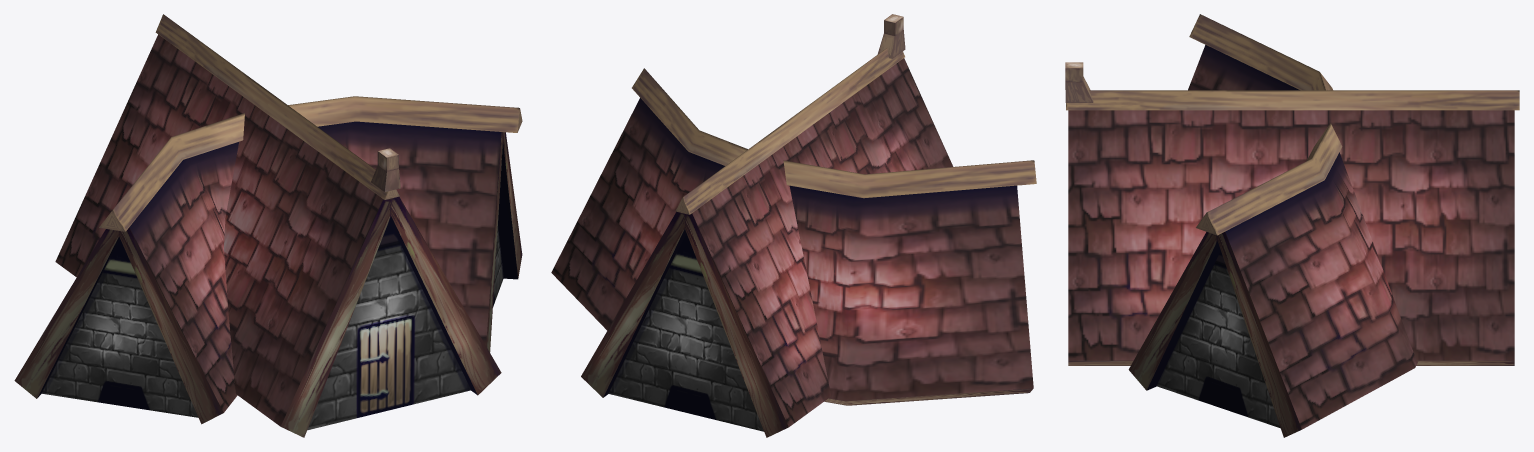
Rendered from crosshouse.FBX.
The picture shows the model from 3 angles, left to right: view 1: azimuth 30°, elevation 25°; view 2: azimuth 150°, elevation 25°; view 3: azimuth 270°, elevation 25°; orthographic projection. The views are drawn at different scales.
Visible parts, largest first — view 1: Box001, Box002; view 2: Box002, Box001; view 3: Box001, Box002.
Boxes of the visible parts, x1,y1,x2,y2 form: Box001: (55, 14, 501, 437); Box002: (14, 96, 522, 424); Box002: (551, 68, 1036, 405); Box001: (581, 14, 953, 437); Box001: (1065, 62, 1519, 365); Box002: (1128, 14, 1418, 437).
Bounding box in the file's own units: 107 × 52.34 × 83.22.
Materials: 2 (2 with a texture image).
